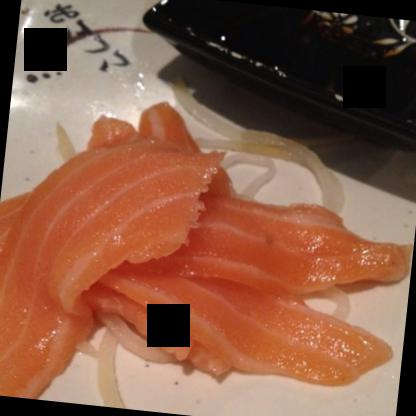salmon: (0, 124, 216, 415), (75, 129, 415, 302), (93, 271, 395, 391)
